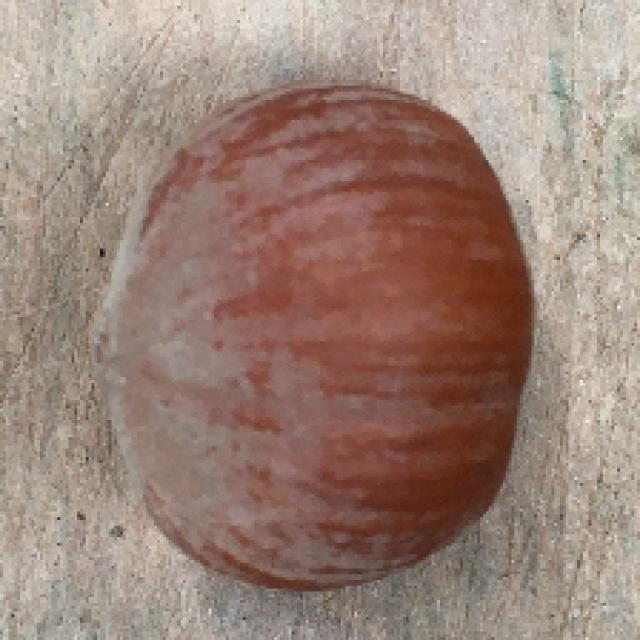qualityHazelnut: (97, 77, 535, 598)
